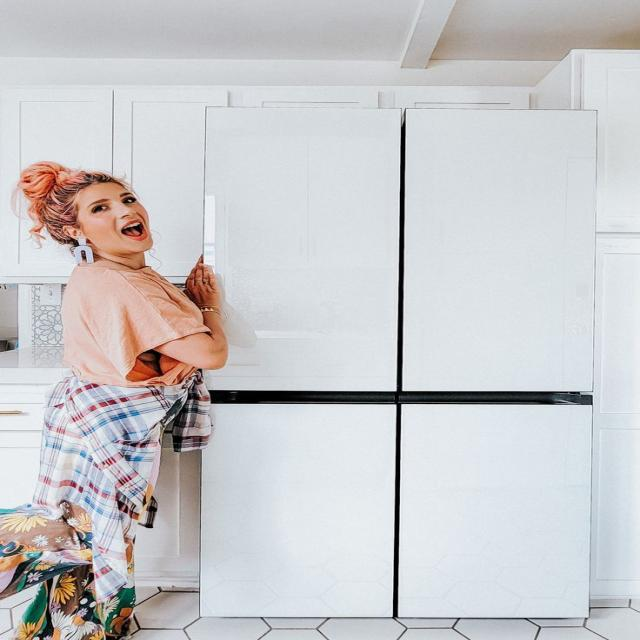obstacle: (196, 104, 598, 619)
person: (0, 160, 230, 639)
